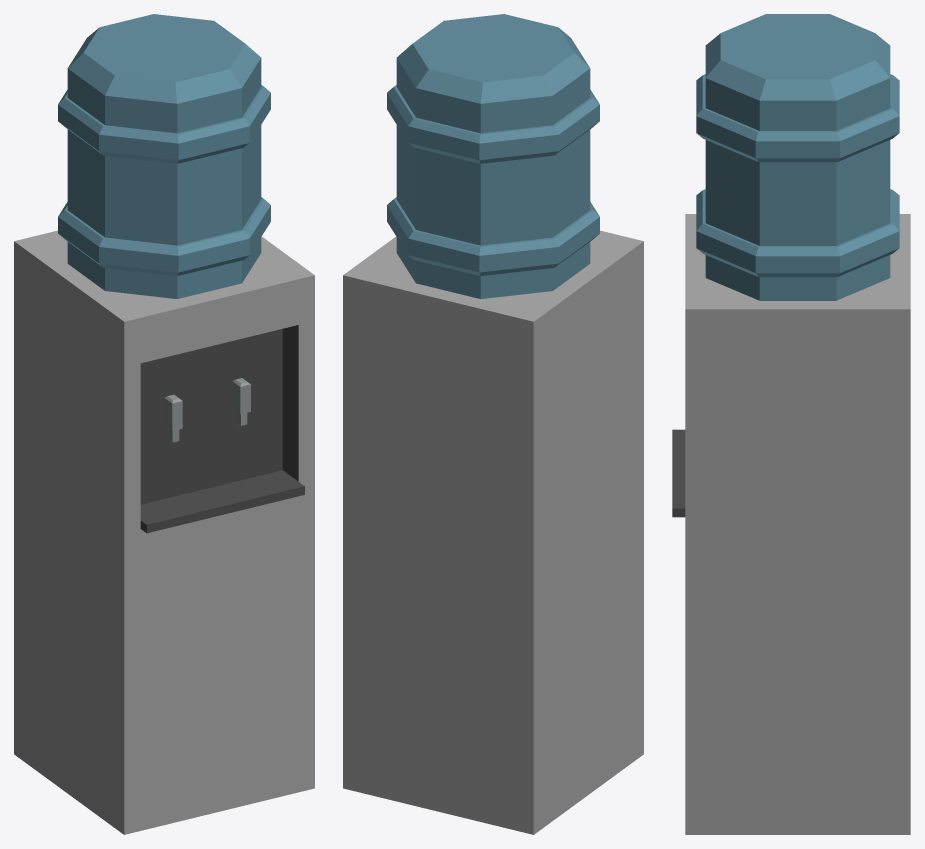
File: SM_Props_Interior_Generic_Office_WaterDispenser.fbx
The picture shows the model from 3 angles, left to right: view 1: azimuth 30°, elevation 25°; view 2: azimuth 150°, elevation 25°; view 3: azimuth 270°, elevation 25°; orthographic projection. The views are drawn at different scales.
Visible parts, largest first — view 1: SM_Props_Interior_Generic_Office_WaterDispenser; view 2: SM_Props_Interior_Generic_Office_WaterDispenser; view 3: SM_Props_Interior_Generic_Office_WaterDispenser.
Part boxes in pixels (x1=…): SM_Props_Interior_Generic_Office_WaterDispenser: x1=14, y1=14, x2=314, y2=834; SM_Props_Interior_Generic_Office_WaterDispenser: x1=343, y1=14, x2=643, y2=834; SM_Props_Interior_Generic_Office_WaterDispenser: x1=672, y1=14, x2=910, y2=834.
Bounding box in the file's own units: 70 × 254 × 74.
